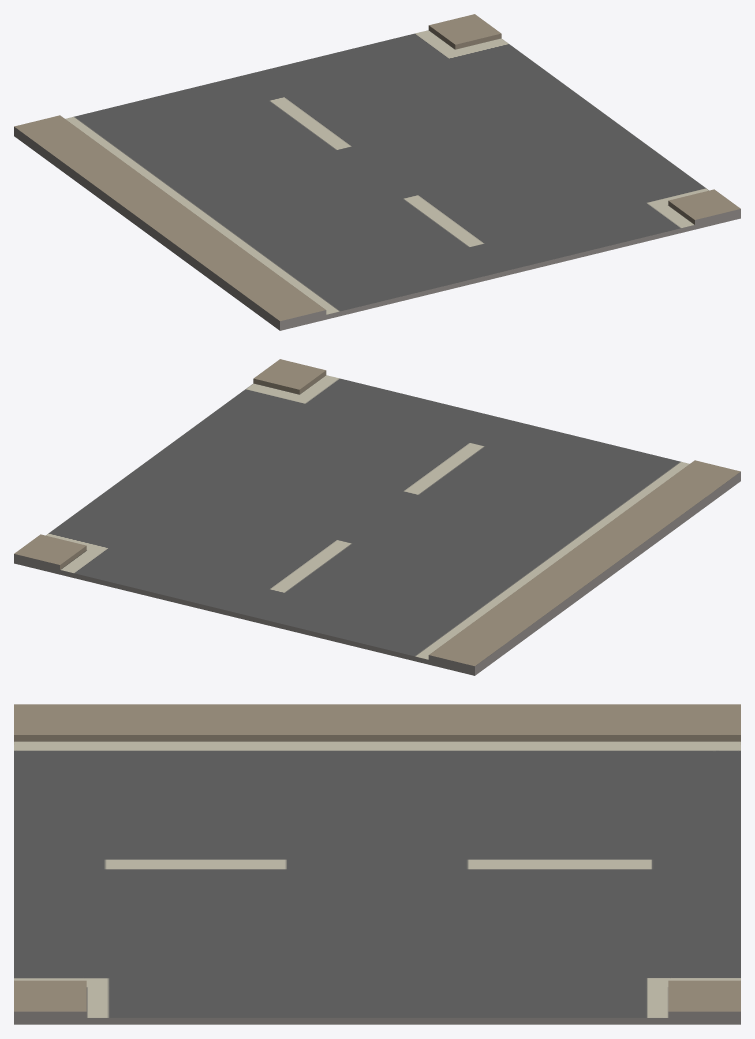
Rendered from road_3_way_junction_coloured.glb.
3 views of the same model, one above another, from view 1: azimuth 30°, elevation 25°; view 2: azimuth 150°, elevation 25°; view 3: azimuth 270°, elevation 25° (orthographic). The views are drawn at different scales.
Parts seen in each view (by area): view 1: Cube; view 2: Cube; view 3: Cube.
Boxes of the visible parts, x1,y1,x2,y2 form: Cube: (14, 14, 740, 330); Cube: (14, 359, 740, 675); Cube: (14, 704, 740, 1024).
Bounding box in the file's own units: 15 × 0.3 × 15.
Materials: 1 (1 with a texture image).
